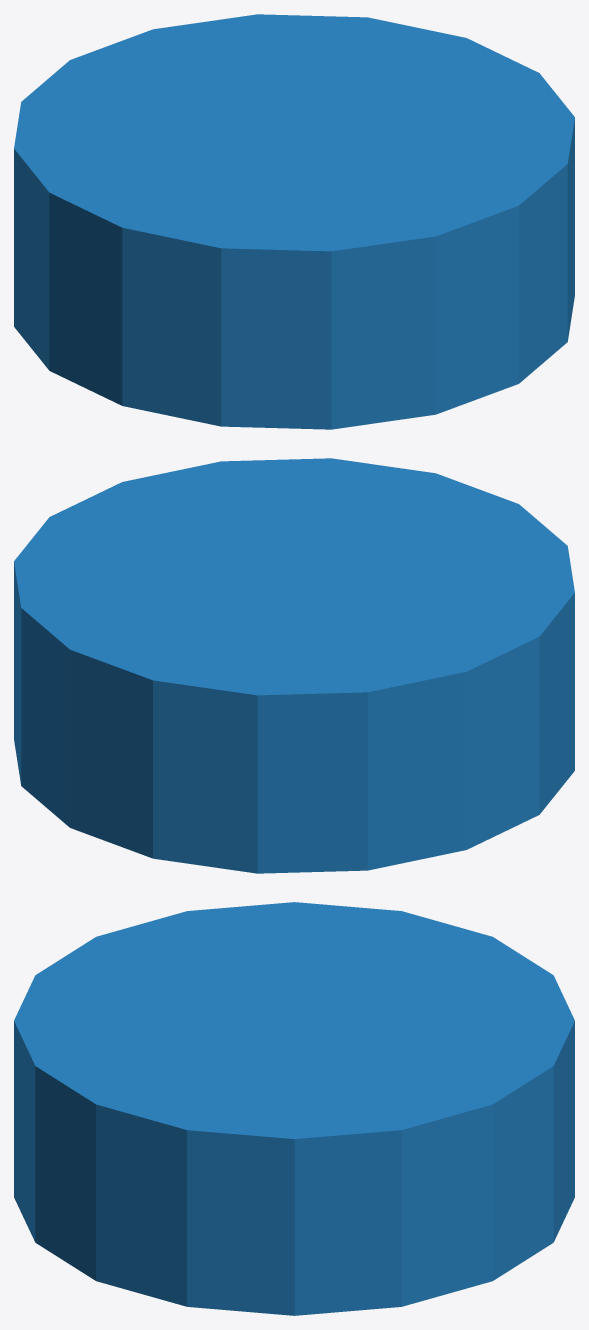
File: Prop_ShapeSortingBlock_Circle.fbx
3 views of the same model, one above another, from view 1: azimuth 30°, elevation 25°; view 2: azimuth 150°, elevation 25°; view 3: azimuth 270°, elevation 25° (orthographic).
Parts seen in each view (by area): view 1: Prop_ShapeSortingBlock_Circle; view 2: Prop_ShapeSortingBlock_Circle; view 3: Prop_ShapeSortingBlock_Circle.
Boxes of the visible parts, x1,y1,x2,y2 form: Prop_ShapeSortingBlock_Circle: (14,14,574,429); Prop_ShapeSortingBlock_Circle: (14,458,574,873); Prop_ShapeSortingBlock_Circle: (14,902,574,1315).
Bounding box in the file's own units: 11.5 × 4 × 11.5.
